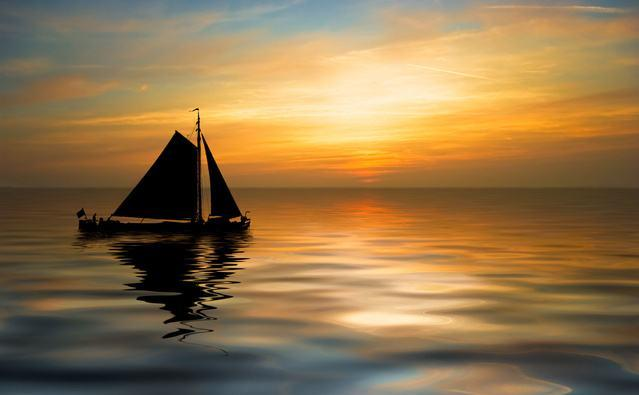fanchuan: (68, 108, 255, 238)
